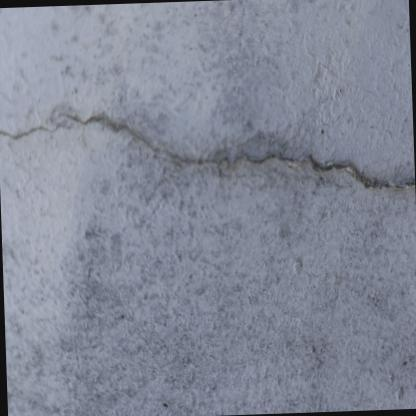crack: (0, 112, 415, 190)
